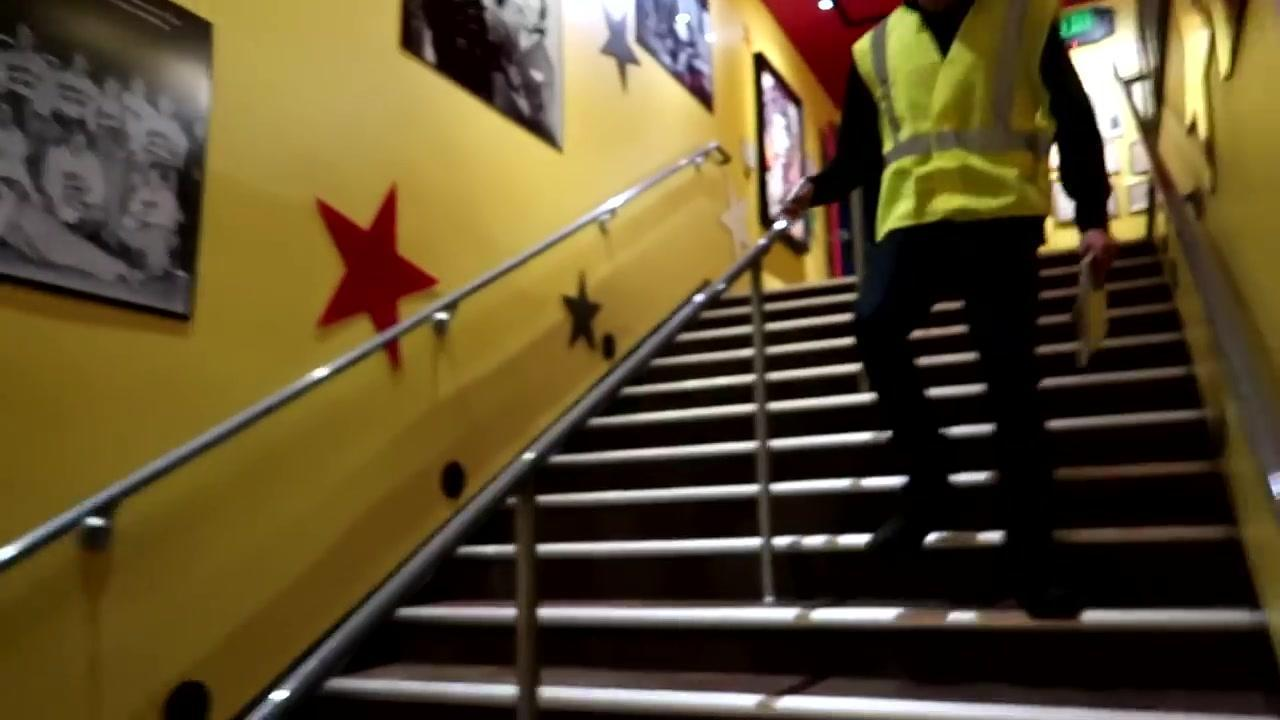vest: (850, 1, 1068, 238)
